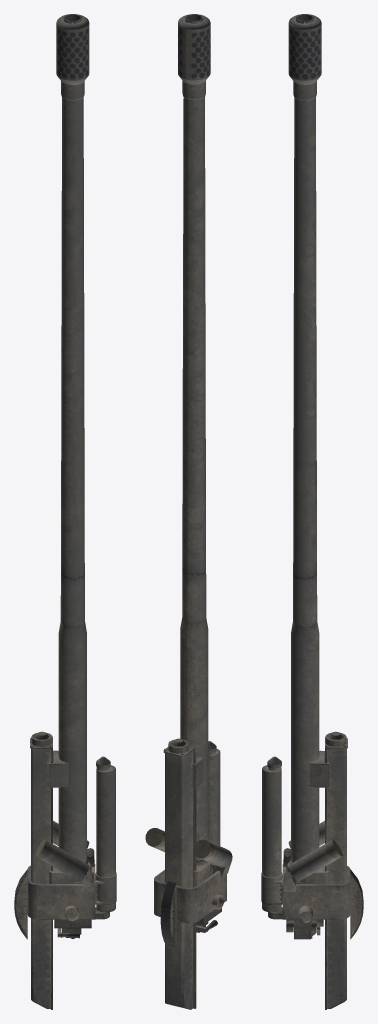
File: Gun_01.glb
3 renders of one model, left to right at view 1: azimuth 90°, elevation 25°; view 2: azimuth 150°, elevation 25°; view 3: azimuth 270°, elevation 25°, orthographic.
Parts seen in each view (by area): view 1: set_0_group_0; view 2: set_0_group_0; view 3: set_0_group_0.
Part boxes in pixels (left/top/right/bottom): set_0_group_0: left=14, top=14, right=116, bottom=1009; set_0_group_0: left=145, top=14, right=232, bottom=1009; set_0_group_0: left=261, top=14, right=363, bottom=1009.
Bounding box in the file's own units: 0.7861 × 11.08 × 1.04.
Materials: 1 (1 with a texture image).
